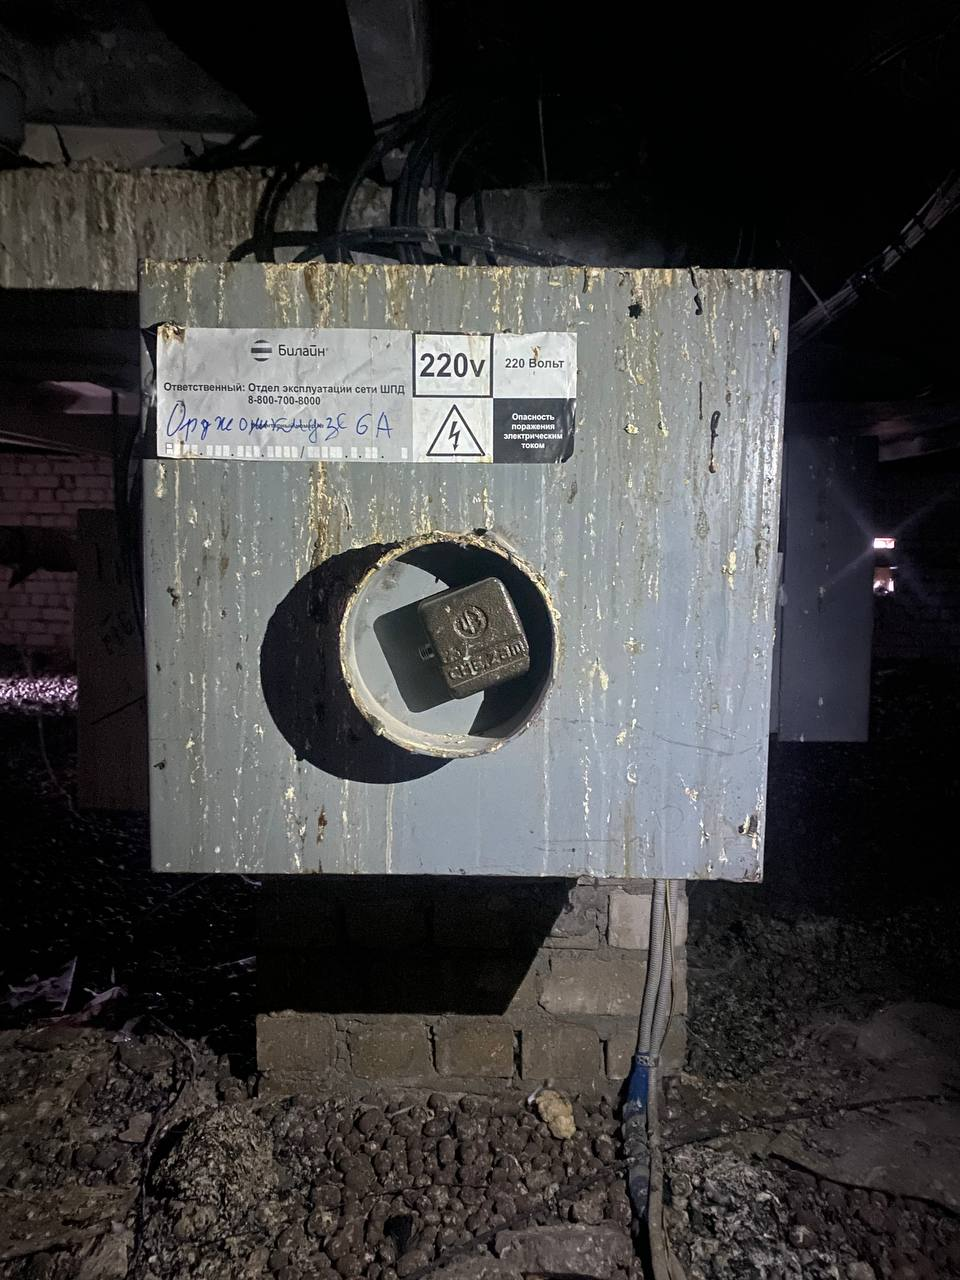shta-9: (117, 239, 803, 900)
